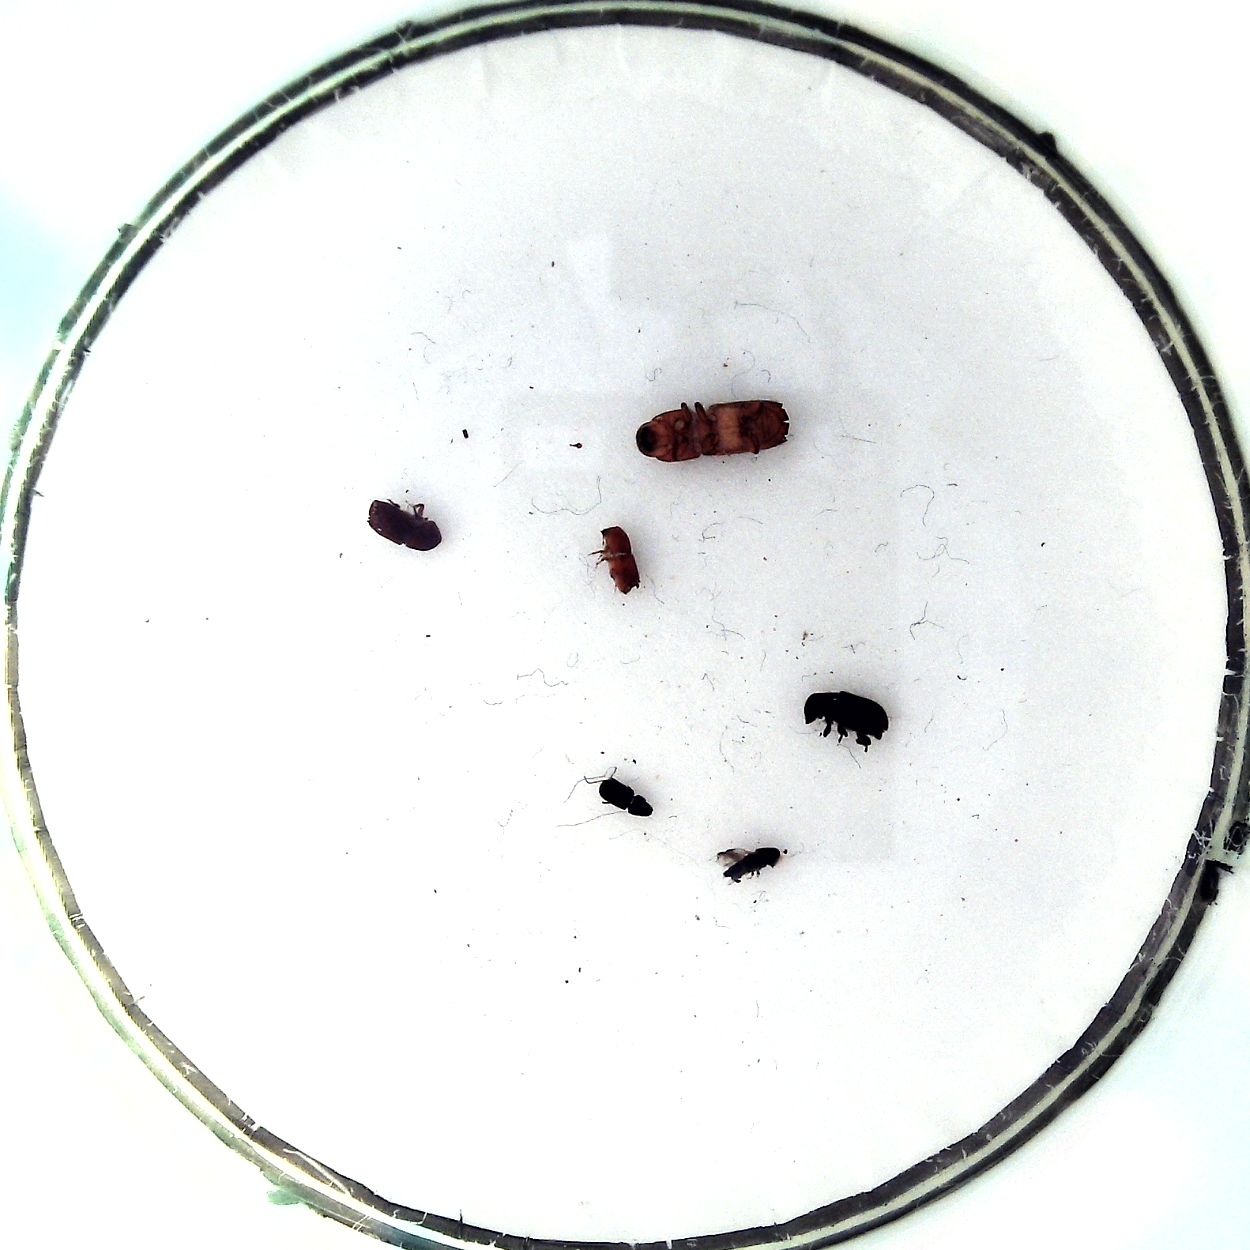Boerner: (636, 399, 791, 462)
acuminatus: (598, 777, 654, 817), (723, 847, 780, 880)
armandi: (804, 691, 891, 743)
coleoptera: (599, 525, 641, 595)
linnaeus: (366, 498, 443, 552)
